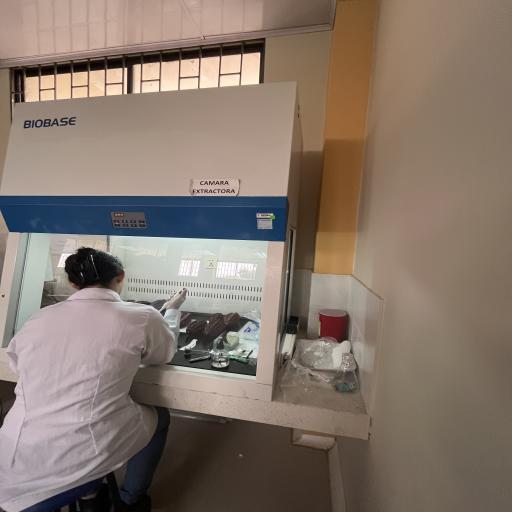Camara_Extractora_Biobase: (0, 77, 315, 420)
